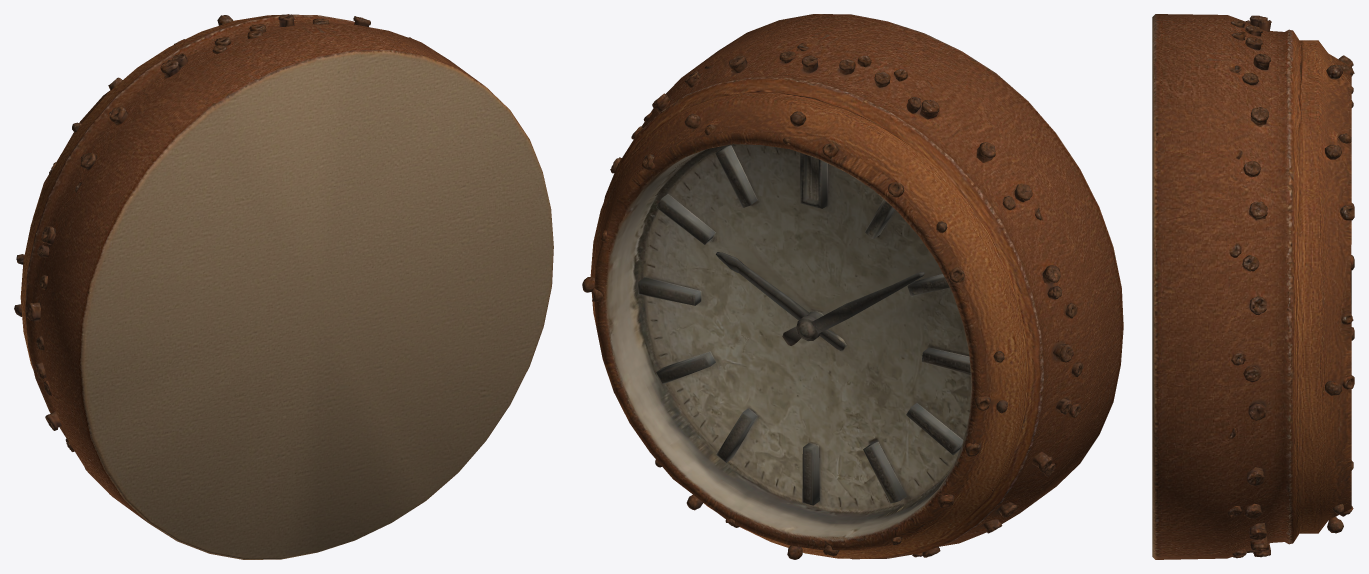
Rendered from prop-wall-clock-v01.glb.
The picture shows the model from 3 angles, left to right: view 1: azimuth 30°, elevation 25°; view 2: azimuth 150°, elevation 25°; view 3: azimuth 270°, elevation 25°; orthographic projection.
Parts seen in each view (by area): view 1: tripo_node_4b5361da-58d1-4310-adb3-2693b5d60e1f; view 2: tripo_node_4b5361da-58d1-4310-adb3-2693b5d60e1f; view 3: tripo_node_4b5361da-58d1-4310-adb3-2693b5d60e1f.
Part boxes in pixels (bbox=[...]): tripo_node_4b5361da-58d1-4310-adb3-2693b5d60e1f: bbox=[14, 14, 553, 559]; tripo_node_4b5361da-58d1-4310-adb3-2693b5d60e1f: bbox=[582, 14, 1123, 559]; tripo_node_4b5361da-58d1-4310-adb3-2693b5d60e1f: bbox=[1152, 14, 1354, 559].
Size of the model in its own units: 0.44 by 0.44 by 0.1645.
Materials: 1 (1 with a texture image).
